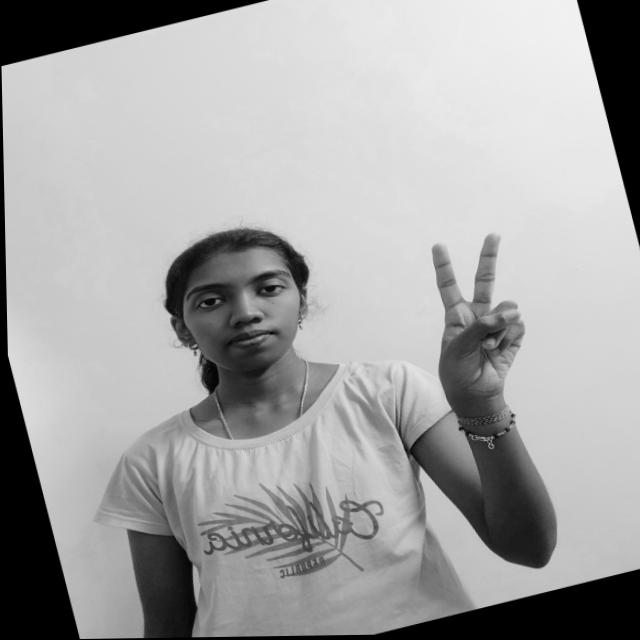Victory: (399, 222, 550, 415)
